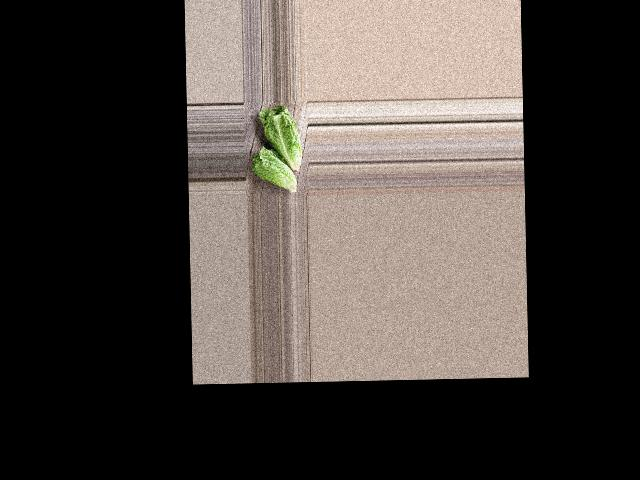lettuce: (247, 144, 299, 196)
